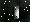person: (11, 7, 19, 20)
